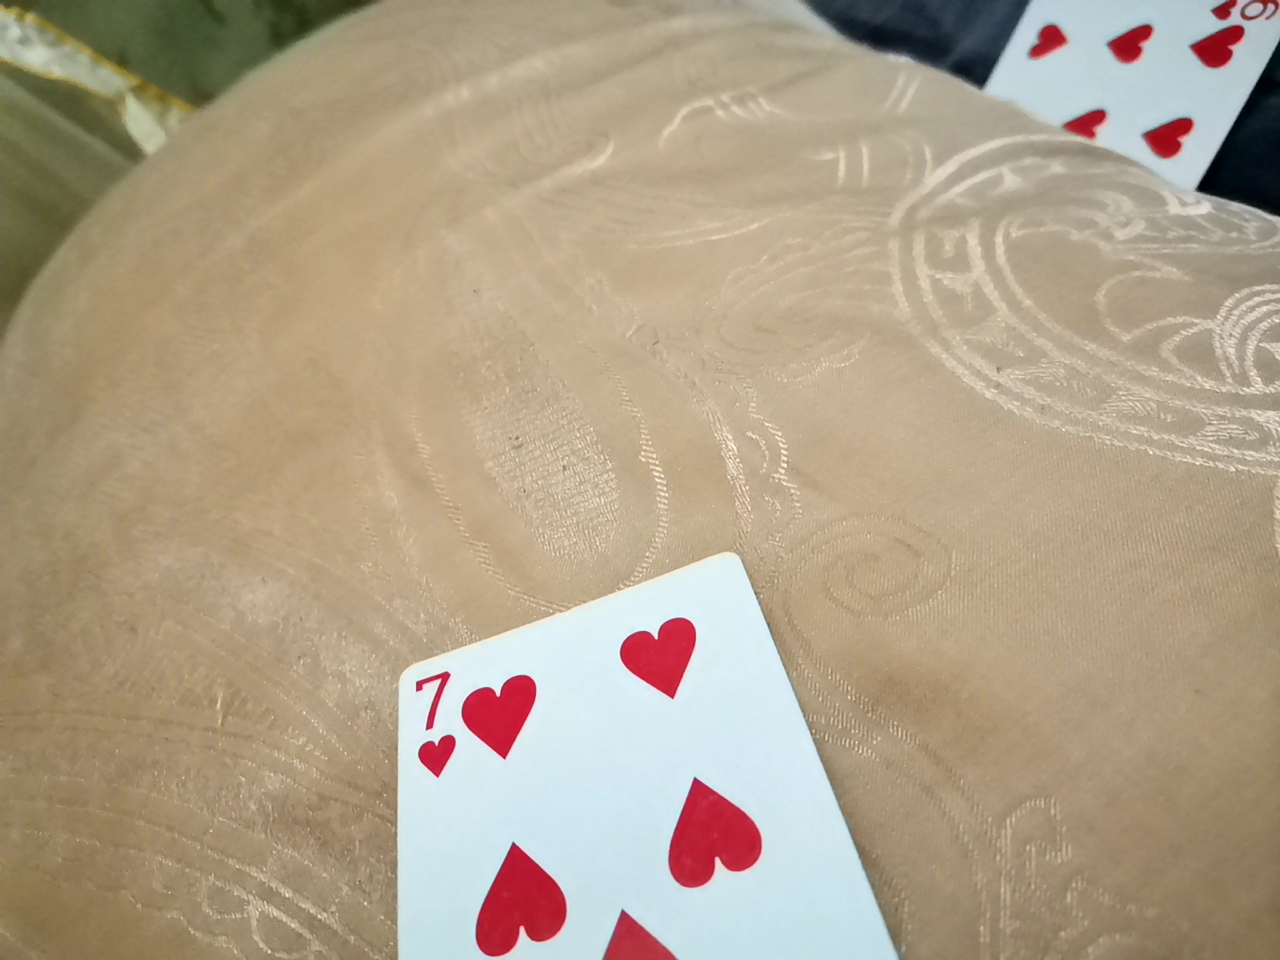hx 7: (395, 555, 937, 960)
